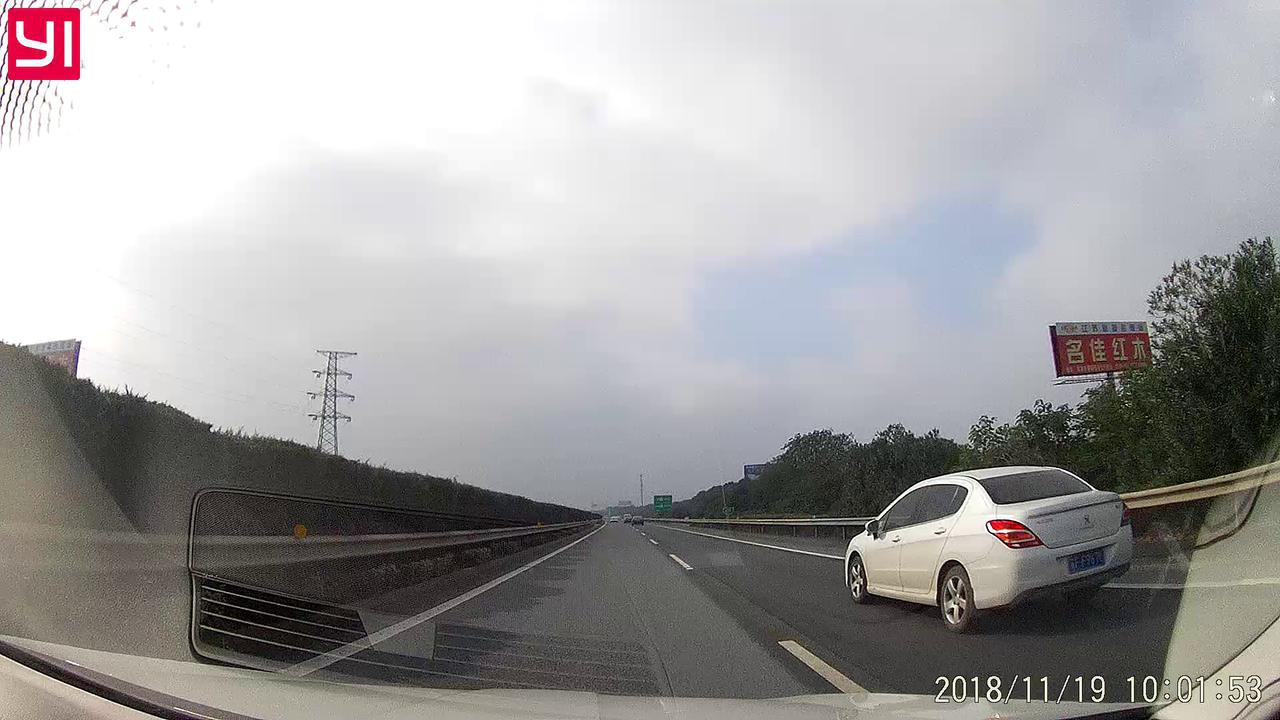car: (839, 463, 1135, 627)
